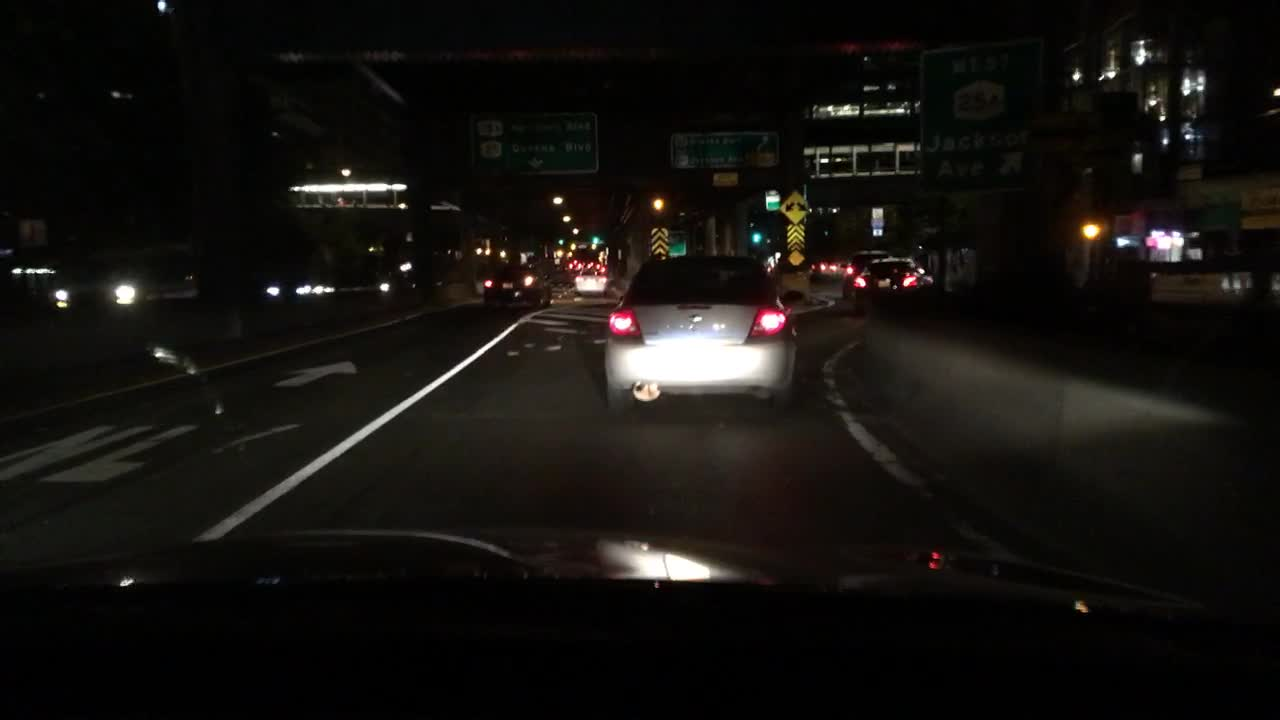car: (599, 248, 803, 425), (45, 242, 198, 312), (845, 253, 935, 316), (476, 256, 553, 312), (836, 248, 883, 296), (260, 269, 336, 296), (572, 258, 612, 294), (379, 258, 418, 293), (809, 259, 840, 277), (566, 256, 585, 268)
traffic light: (588, 235, 600, 247)
traffic sign: (914, 48, 1034, 192), (471, 109, 600, 177), (670, 135, 777, 169), (777, 189, 810, 224), (20, 220, 45, 247), (647, 227, 669, 256), (712, 170, 741, 186), (786, 224, 803, 251), (872, 209, 883, 236), (764, 190, 777, 212), (784, 251, 804, 264)
